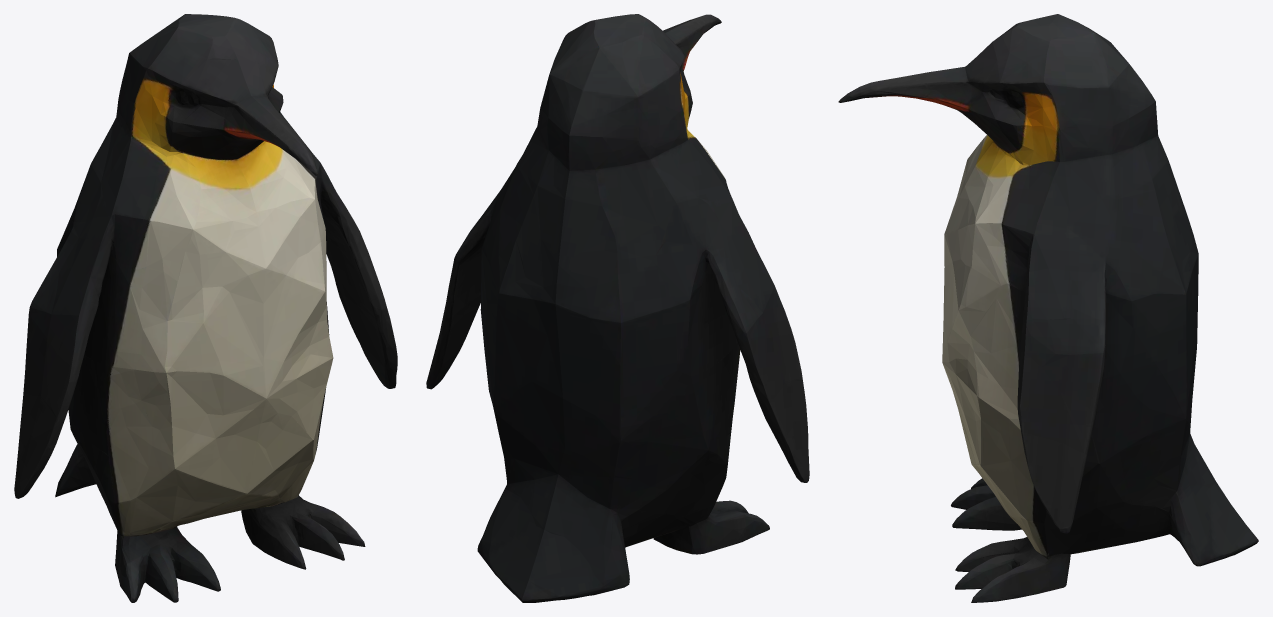
Rendered from penguin.glb.
The picture shows the model from 3 angles, left to right: view 1: azimuth 30°, elevation 25°; view 2: azimuth 150°, elevation 25°; view 3: azimuth 270°, elevation 25°; orthographic projection. The views are drawn at different scales.
Visible parts, largest first — view 1: world; view 2: world; view 3: world.
Part boxes in pixels (box(x1,y1,x2,y2)): world: box(14, 14, 397, 602); world: box(426, 14, 809, 602); world: box(838, 14, 1258, 602).
Size of the model in its own units: 0.7695 by 0.9999 by 0.7319.
Materials: 1 (1 with a texture image).
